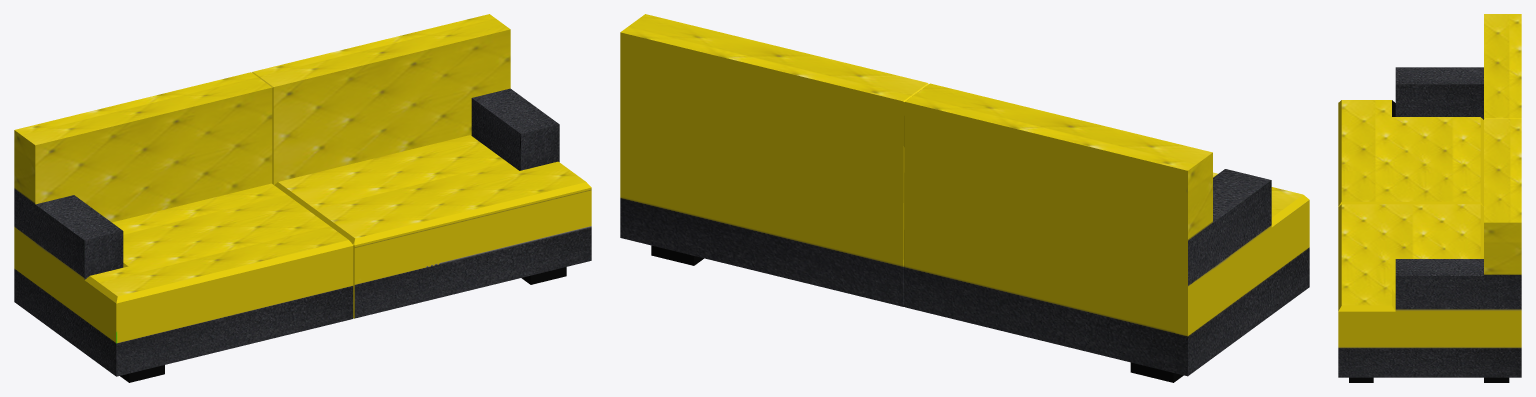
File: sofa.FBX
The picture shows the model from 3 angles, left to right: view 1: azimuth 30°, elevation 25°; view 2: azimuth 150°, elevation 25°; view 3: azimuth 270°, elevation 25°; orthographic projection. The views are drawn at different scales.
Parts seen in each view (by area): view 1: Box001; view 2: Box001; view 3: Box001.
Part boxes in pixels (box(x1,y1,x2,y2)): Box001: box(14, 14, 591, 382); Box001: box(620, 14, 1309, 382); Box001: box(1338, 14, 1521, 382).
Size of the model in its own units: 194 by 73.08 by 72.11.
